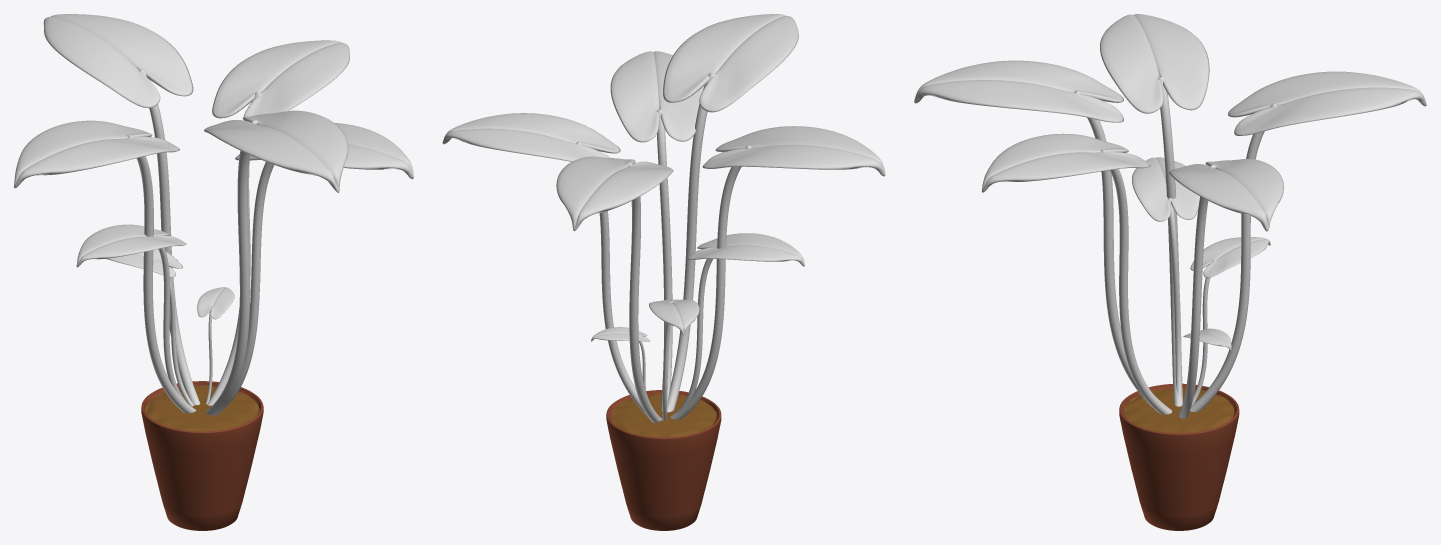
File: Philodendron fragans.glb
3 renders of one model, left to right at view 1: azimuth 30°, elevation 25°; view 2: azimuth 150°, elevation 25°; view 3: azimuth 270°, elevation 25°, orthographic. The views are drawn at different scales.
Parts seen in each view (by area): view 1: Philodendron fragans, Macetero; view 2: Philodendron fragans, Macetero; view 3: Philodendron fragans, Macetero.
Boxes of the visible parts, x1=… form: Philodendron fragans: x1=14, y1=14, x2=413, y2=415; Macetero: x1=141, y1=381, x2=263, y2=530; Philodendron fragans: x1=442, y1=14, x2=885, y2=422; Macetero: x1=606, y1=390, x2=721, y2=530; Philodendron fragans: x1=914, y1=14, x2=1426, y2=418; Macetero: x1=1119, y1=383, x2=1239, y2=530.
Bounding box in the file's own units: 0.6657 × 0.7057 × 0.7483.
Materials: 2 (1 with a texture image).
